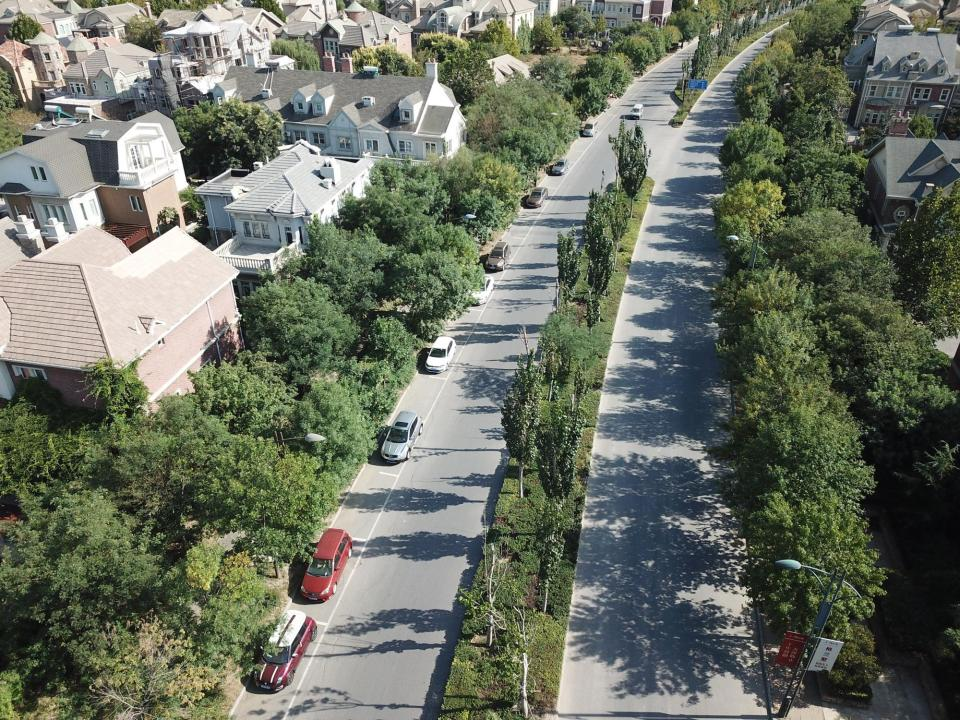car: (254, 610, 317, 692), (300, 528, 353, 602), (380, 410, 423, 463), (425, 336, 456, 373), (463, 275, 494, 304), (485, 242, 511, 271), (526, 188, 548, 208)
van: (582, 120, 598, 136), (630, 104, 643, 120)
